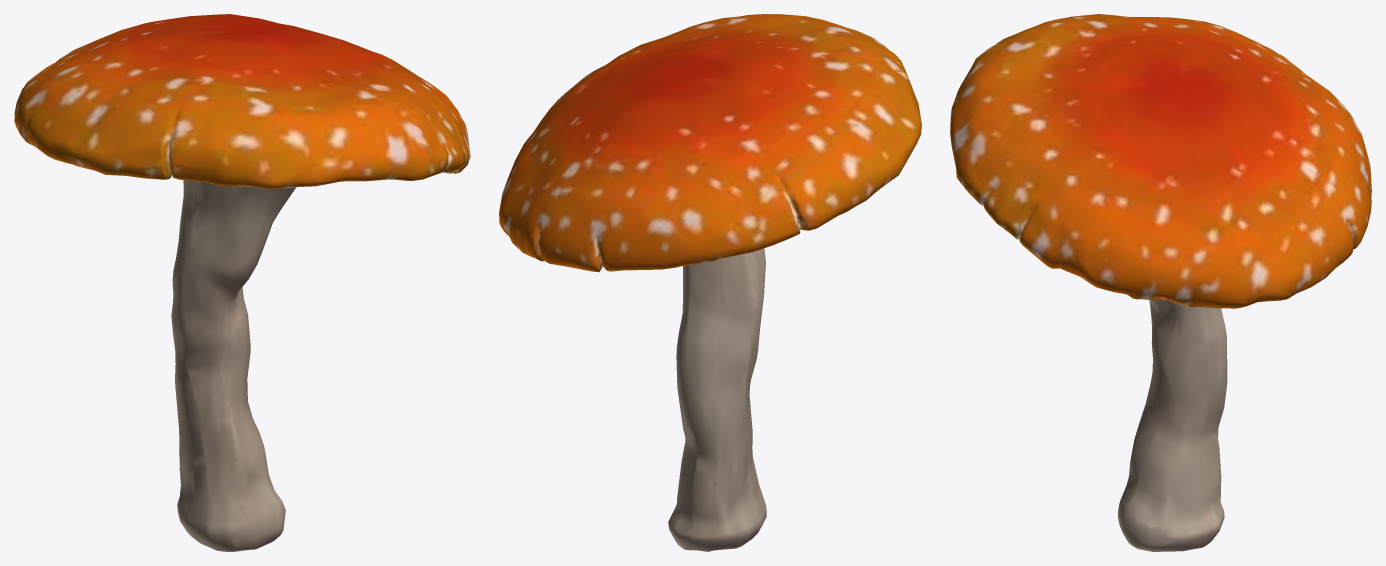
Rendered from SM_pal_b02_Mushroom_LargeA_Gradation_Orange_19c4ca.glb.
The picture shows the model from 3 angles, left to right: view 1: azimuth 30°, elevation 25°; view 2: azimuth 150°, elevation 25°; view 3: azimuth 270°, elevation 25°; orthographic projection. The views are drawn at different scales.
Size of the model in its own units: 4.39 by 5.39 by 4.34.
Materials: 1 (1 with a texture image).
